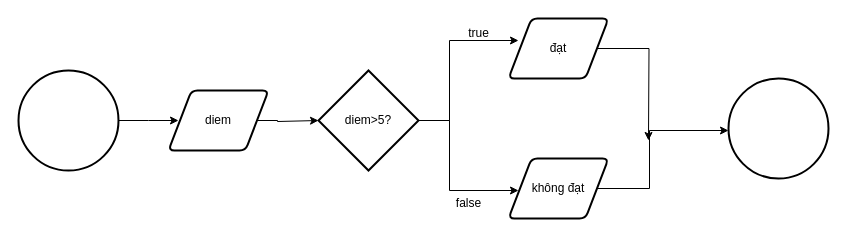
The diagram is 846 pixels wide and 236 high, and some of its shapes have lost their labels. The shapes that lost their labels are listed below. From the top down, each one's centre as x and y in pixels, then its label:
At (68,120): "Start".
At (778,128): "End".
